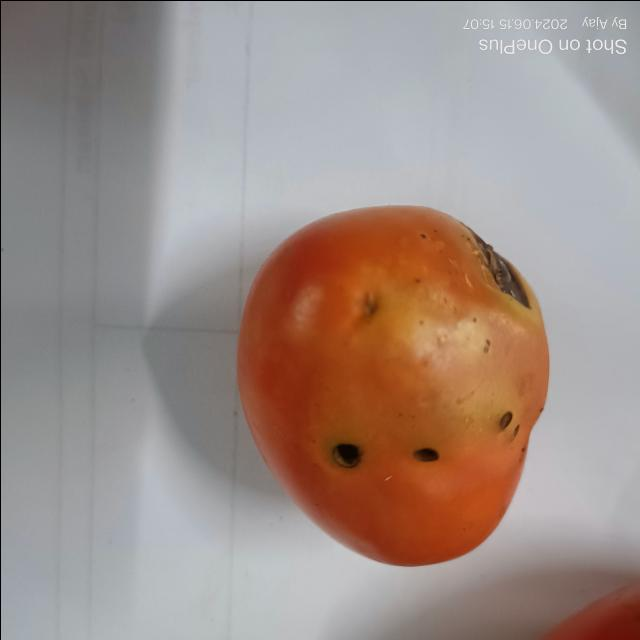fruitworm_bore: (326, 436, 363, 478), (495, 408, 529, 448), (408, 442, 441, 469)
